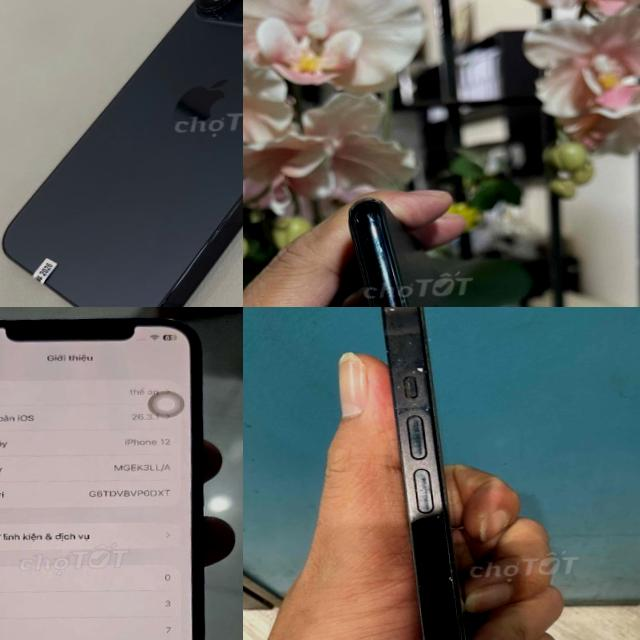gen_11: (333, 178, 489, 307)
gen_12_13: (0, 313, 217, 640)
gen_14: (0, 0, 243, 307), (370, 307, 525, 640)
scratch: (416, 454, 474, 635), (381, 307, 444, 448)
